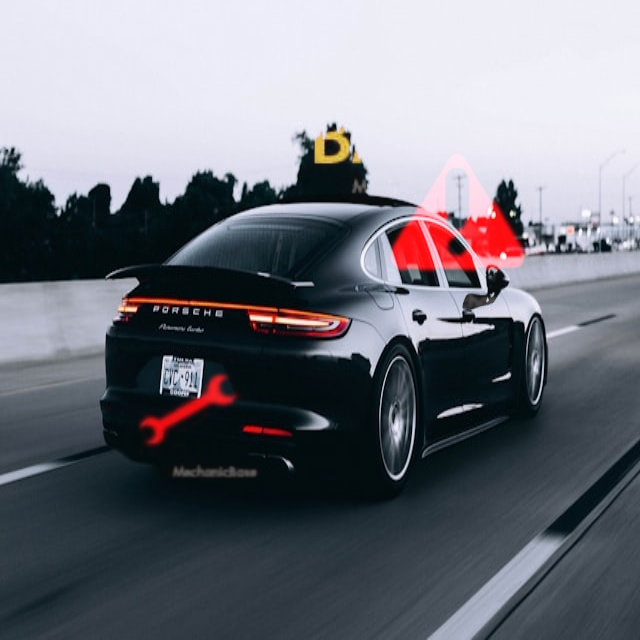symbol: (349, 104, 564, 319), (275, 5, 473, 203), (116, 338, 262, 484)
